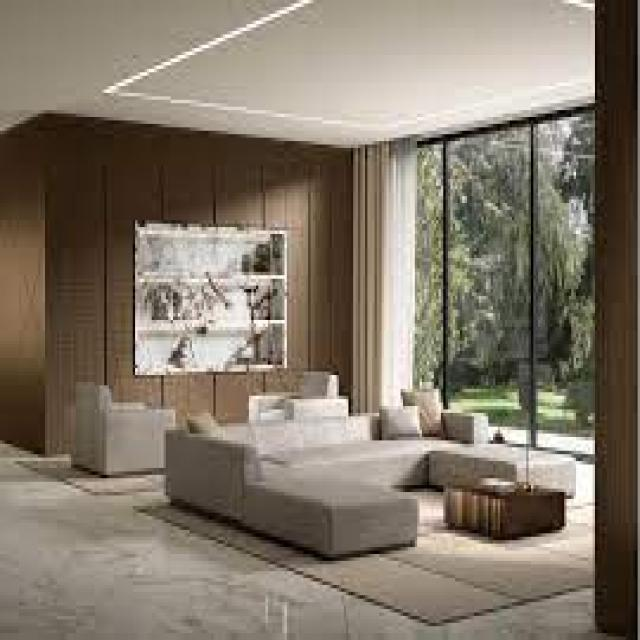Chair: (75, 378, 179, 489), (236, 360, 350, 424)
Sofa: (168, 404, 582, 558)
Table: (449, 470, 572, 553)
